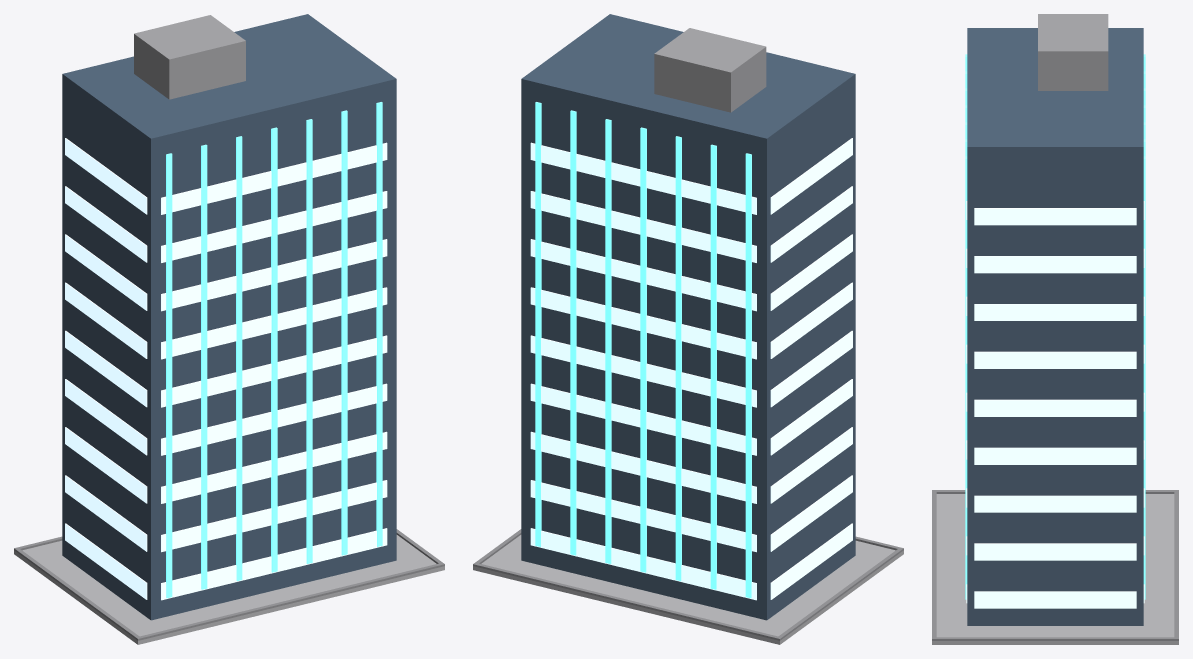
The model's file is bt-commercial-tower-2.glb.
3 views of the same model, side by side, from view 1: azimuth 30°, elevation 25°; view 2: azimuth 150°, elevation 25°; view 3: azimuth 270°, elevation 25° (orthographic).
Visible parts, largest first — view 1: body, skirt_slab, roofbox, win_s_0, win_s_1, win_s_7, win_s_4, win_s_2, win_s_3, win_s_5, win_s_6, win_s_8 (+18 smaller); view 2: body, skirt_slab, roofbox, win_n_0, win_n_1, win_n_7, win_n_4, win_n_2, win_n_3, win_n_5, win_n_6, win_n_8 (+18 smaller); view 3: body, skirt_slab, roofbox, win_e_0, win_e_1, win_e_2, win_e_3, win_e_4, win_e_5, win_e_7, win_e_8, win_e_6 (+5 smaller).
Part boxes in pixels (bbox=[...]): body: bbox=[62, 14, 396, 620]; skirt_slab: bbox=[14, 535, 444, 644]; roofbox: bbox=[134, 15, 245, 99]; win_s_0: bbox=[161, 528, 387, 600]; win_s_1: bbox=[161, 480, 387, 552]; win_s_7: bbox=[161, 191, 387, 262]; win_s_4: bbox=[161, 335, 387, 407]; win_s_2: bbox=[161, 431, 387, 503]; win_s_3: bbox=[161, 383, 387, 455]; win_s_5: bbox=[161, 287, 387, 359]; win_s_6: bbox=[161, 239, 387, 311]; win_s_8: bbox=[161, 142, 387, 214]; body: bbox=[521, 14, 855, 620]; skirt_slab: bbox=[473, 535, 903, 644]; roofbox: bbox=[654, 28, 766, 112]; win_n_0: bbox=[530, 528, 756, 600]; win_n_1: bbox=[530, 480, 756, 552]; win_n_7: bbox=[530, 191, 756, 262]; win_n_4: bbox=[530, 335, 756, 407]; win_n_2: bbox=[530, 431, 756, 503]; win_n_3: bbox=[530, 383, 756, 455]; win_n_5: bbox=[530, 287, 756, 359]; win_n_6: bbox=[530, 239, 756, 311]; win_n_8: bbox=[530, 142, 756, 214]; body: bbox=[967, 28, 1143, 625]; skirt_slab: bbox=[932, 494, 1178, 644]; roofbox: bbox=[1038, 14, 1108, 90]; win_e_0: bbox=[974, 591, 1136, 608]; win_e_1: bbox=[974, 543, 1136, 560]; win_e_2: bbox=[974, 495, 1136, 512]; win_e_3: bbox=[974, 447, 1136, 464]; win_e_4: bbox=[974, 399, 1136, 416]; win_e_5: bbox=[974, 351, 1136, 368]; win_e_7: bbox=[974, 256, 1136, 273]; win_e_8: bbox=[974, 208, 1136, 225]; win_e_6: bbox=[974, 304, 1136, 320].
Size of the model in its own units: 20 by 32.75 by 14.
